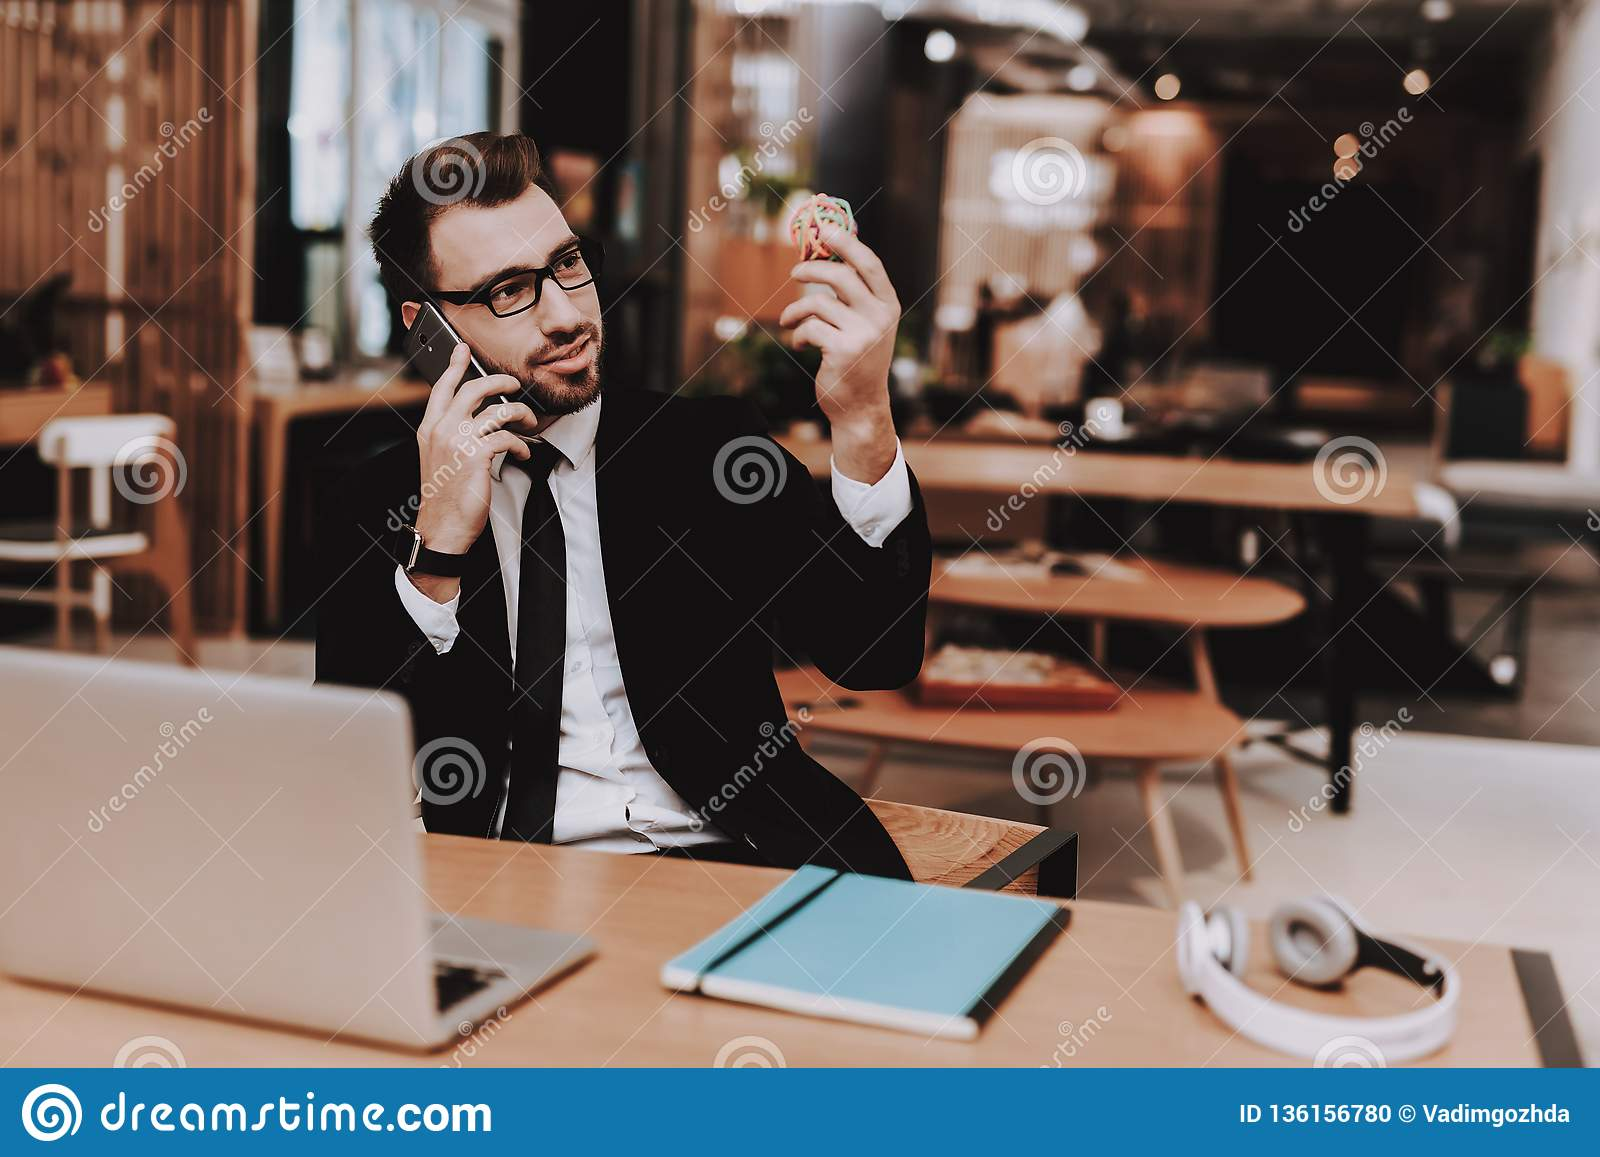phone: (404, 301, 516, 441)
talk: (398, 231, 606, 546)
